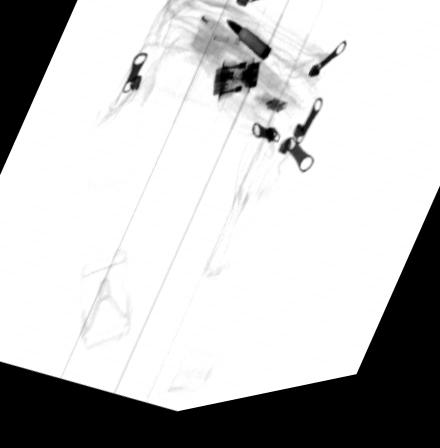Bullet: (225, 25, 272, 73)
